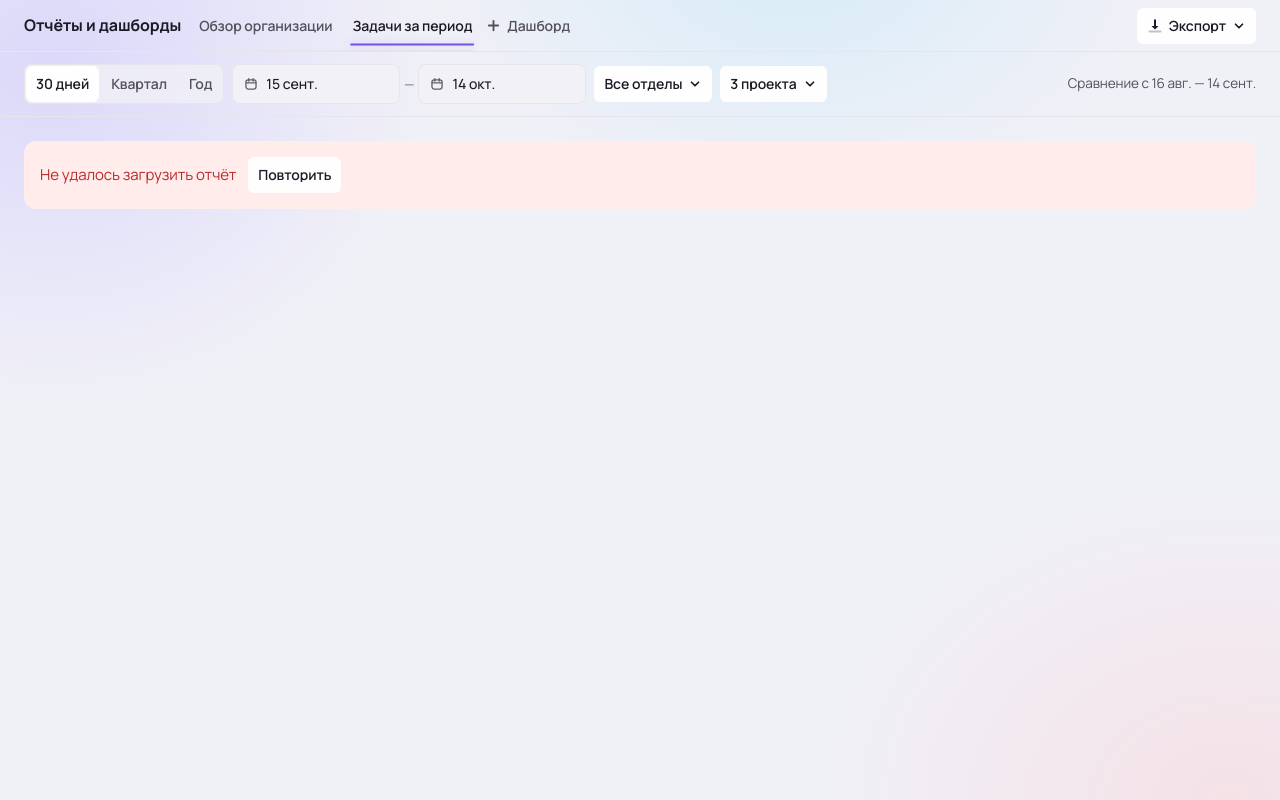
Test: Reports refresh › load failure can be retried
expect the message "Не удалось загрузить отчёт Повторить" is shown: met, box [24,141,1256,209]
Click the button "Повторить": (295, 175) [248,157,341,193]
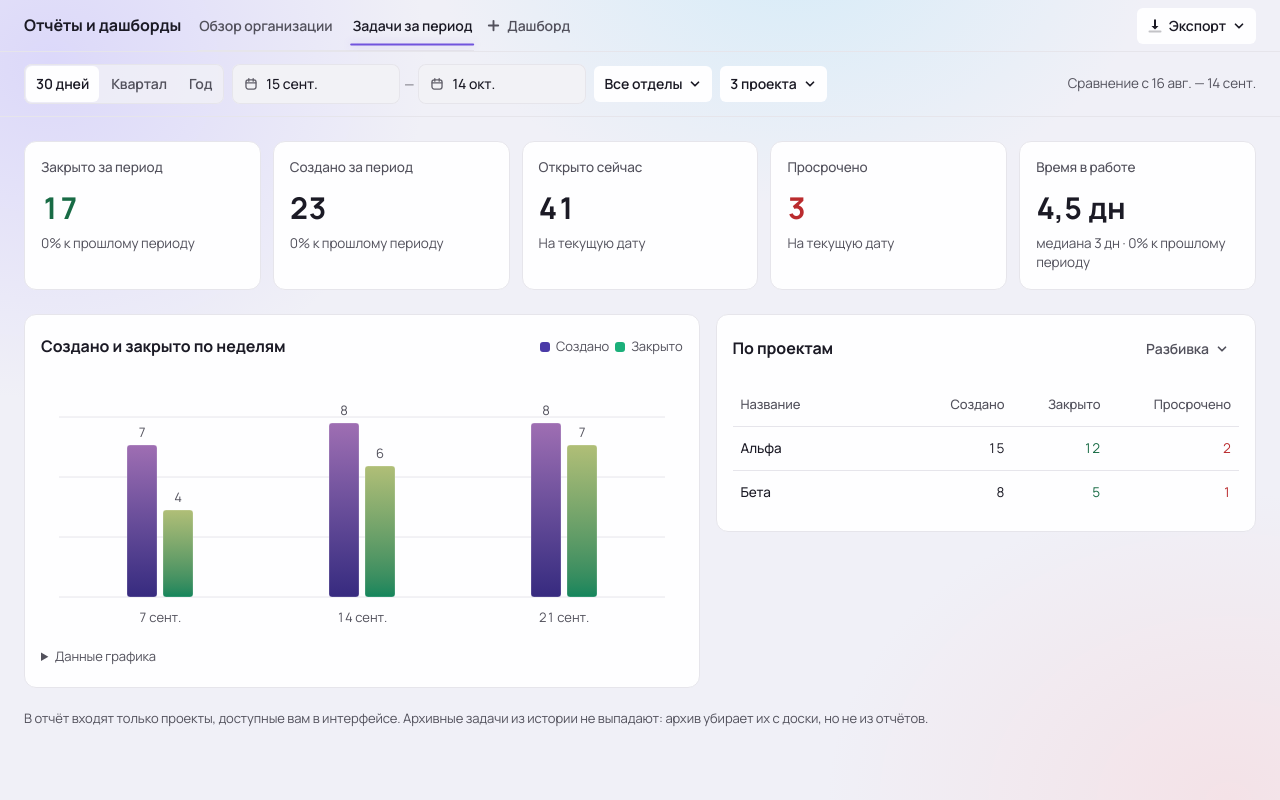
expect the column heading "Альфа" is shown: met, box [732,426,914,471]
